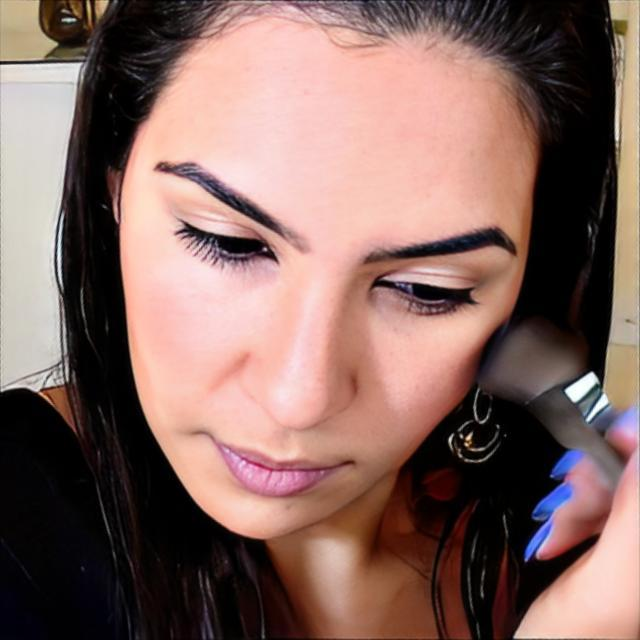sad: (120, 39, 524, 540)
